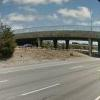Bridge: (11, 20, 96, 55)
